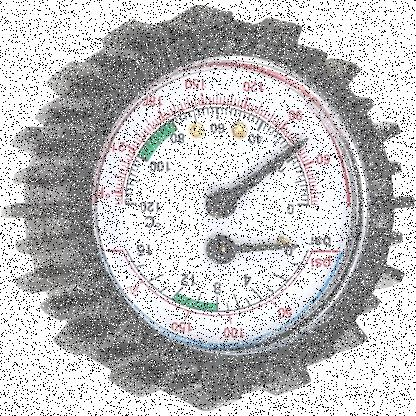needle: (229, 136, 311, 201), (235, 243, 300, 255)
